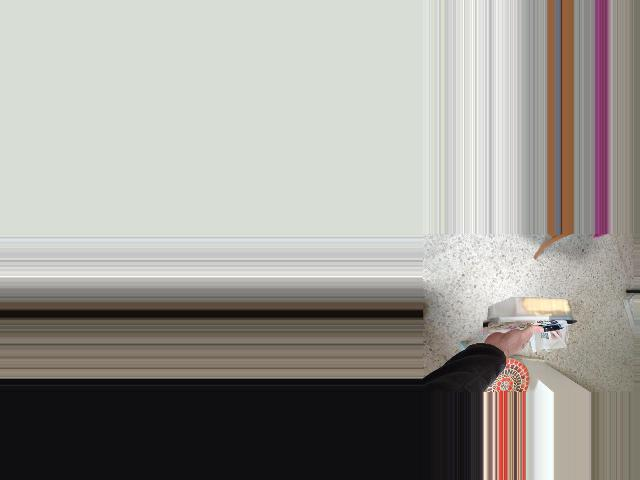cheese: (477, 289, 575, 383)
